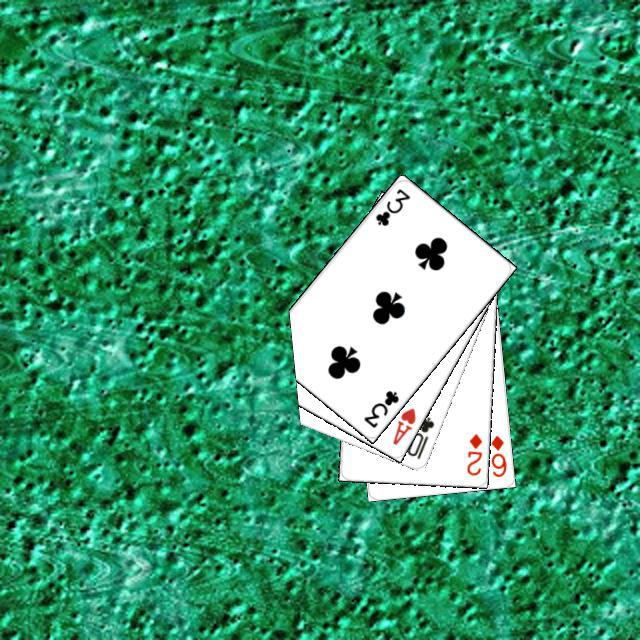10c: (402, 412, 436, 461)
2d: (462, 429, 484, 477)
3c: (359, 385, 401, 430), (371, 183, 412, 228)
6d: (486, 430, 508, 479)
Ah: (388, 403, 418, 447)
